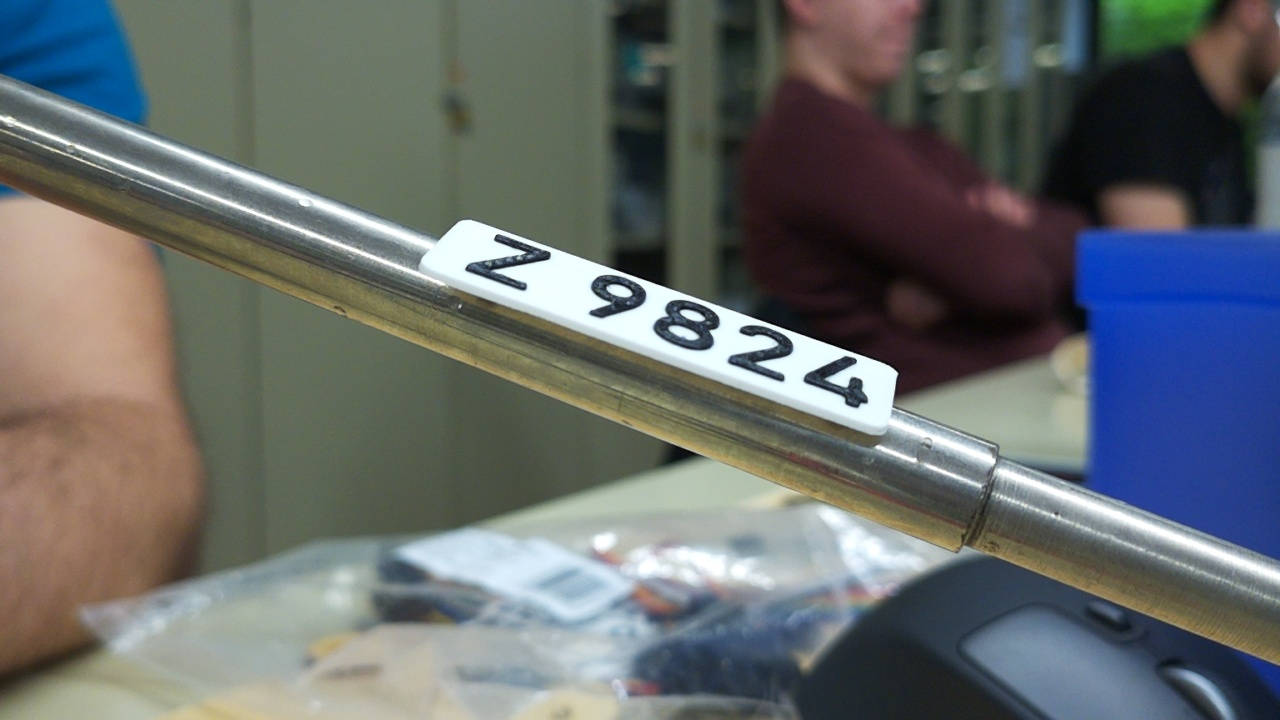license_plate: (415, 213, 901, 436)
